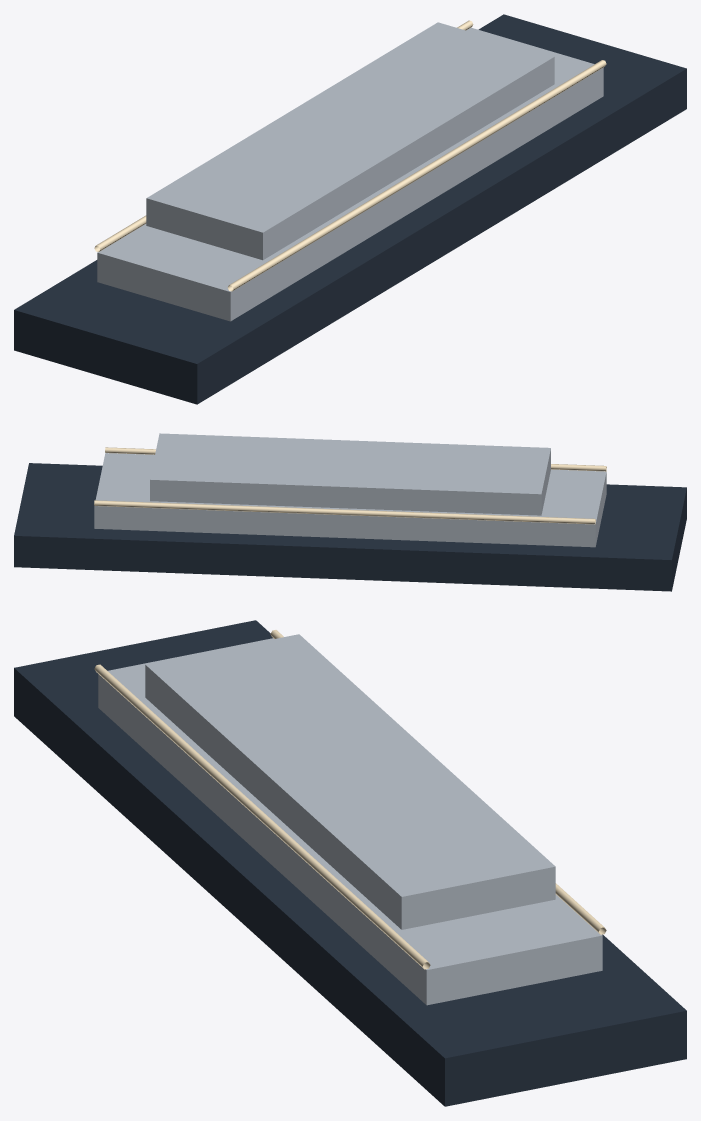
3 views of the same model, one above another, from view 1: azimuth 30°, elevation 25°; view 2: azimuth 150°, elevation 25°; view 3: azimuth 270°, elevation 25° (orthographic). The views are drawn at different scales.
Visible parts, largest first — view 1: -3_-1_珍珠白 · 混凝土, -3_-1_深灰金属, -3_-1_路灯 · 暖白; view 2: -3_-1_珍珠白 · 混凝土, -3_-1_深灰金属, -3_-1_路灯 · 暖白; view 3: -3_-1_珍珠白 · 混凝土, -3_-1_深灰金属, -3_-1_路灯 · 暖白.
Part boxes in pixels (box(x1,y1,x2,y2)): -3_-1_珍珠白 · 混凝土: box(97, 22, 603, 321); -3_-1_深灰金属: box(14, 14, 686, 404); -3_-1_路灯 · 暖白: box(94, 20, 606, 291); -3_-1_珍珠白 · 混凝土: box(94, 433, 606, 547); -3_-1_深灰金属: box(14, 463, 686, 591); -3_-1_路灯 · 暖白: box(94, 447, 606, 524); -3_-1_珍珠白 · 混凝土: box(98, 634, 602, 1005); -3_-1_深灰金属: box(14, 620, 686, 1106); -3_-1_路灯 · 暖白: box(94, 630, 606, 969).
Size of the model in its own units: 42.71 by 5.55 by 27.72.
